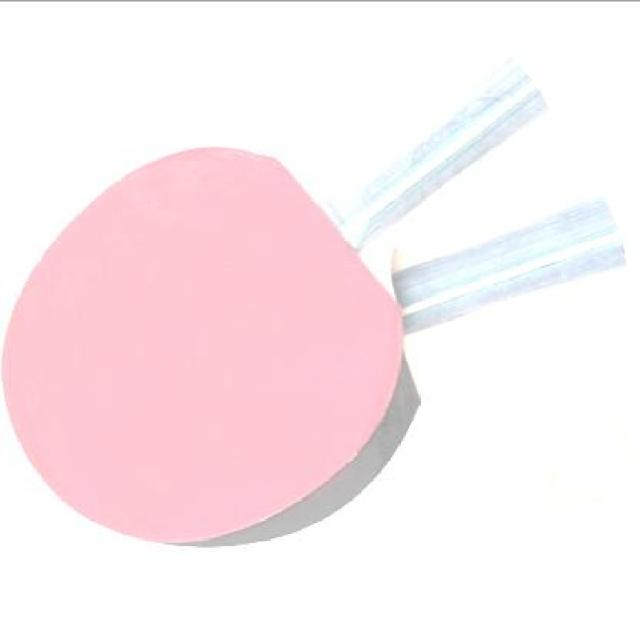table_tennis_racket: (0, 138, 452, 572)
